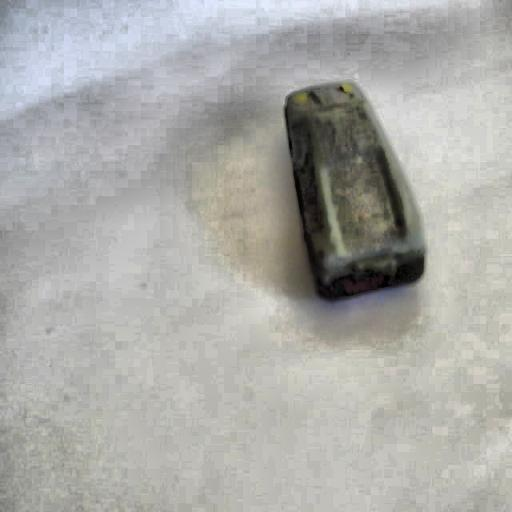normal_car: (280, 80, 426, 306)
